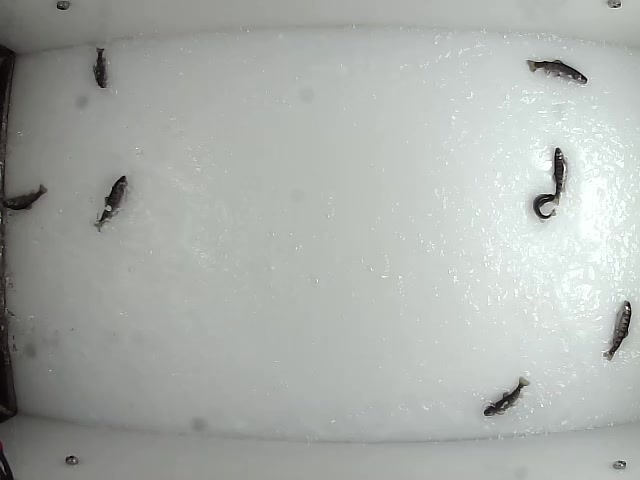fish: (92, 171, 128, 234), (481, 371, 531, 416), (601, 298, 631, 363), (548, 143, 573, 207), (526, 57, 587, 83), (1, 182, 51, 213), (531, 190, 561, 223), (89, 44, 110, 90)
